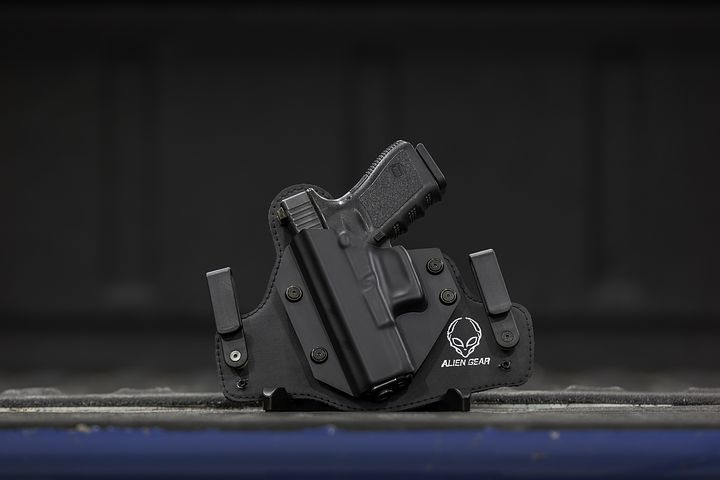gun: (267, 130, 457, 401)
